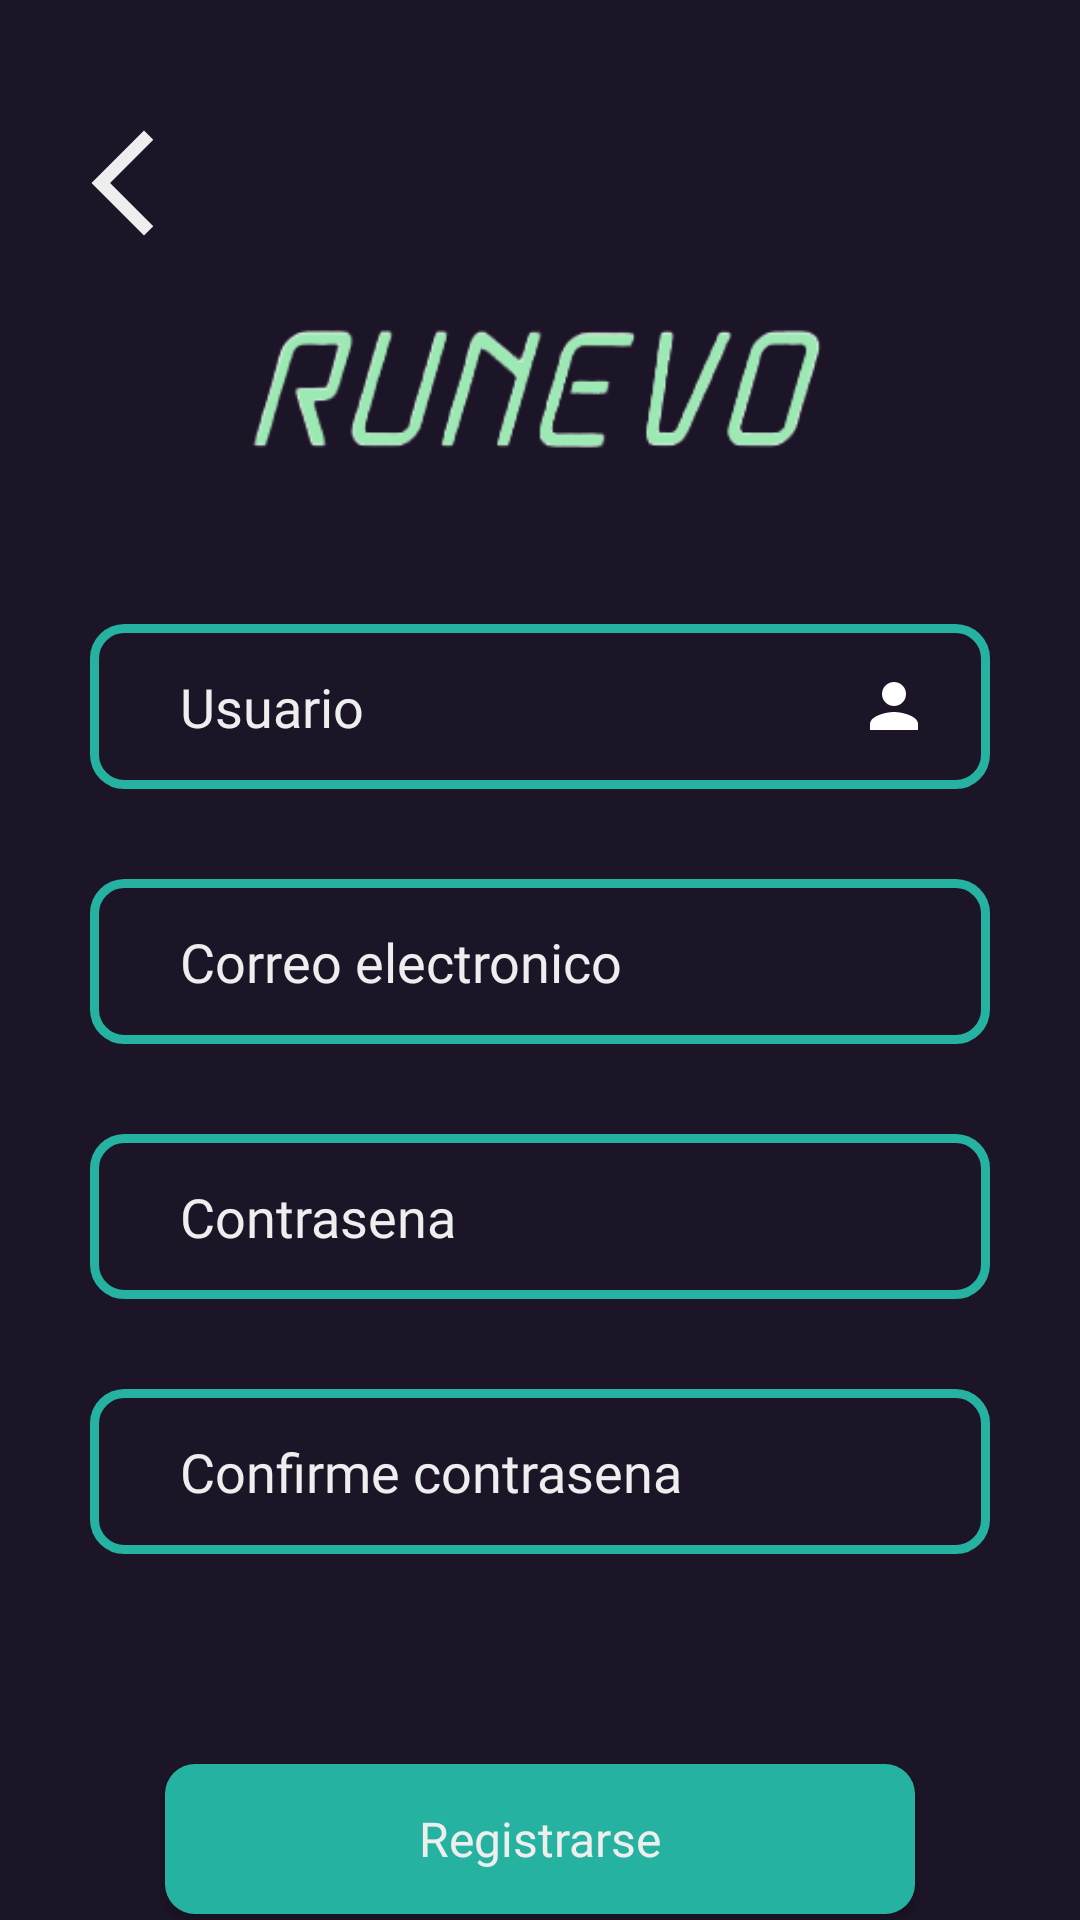

Where to tap for icons on this 1080 x 1920 app screen, as point (x, y):
arrow back: point (122, 183)
